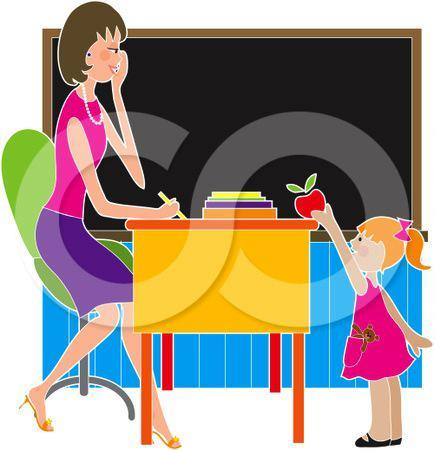chair: (1, 130, 135, 421)
person: (11, 1, 175, 447), (310, 198, 429, 445)
